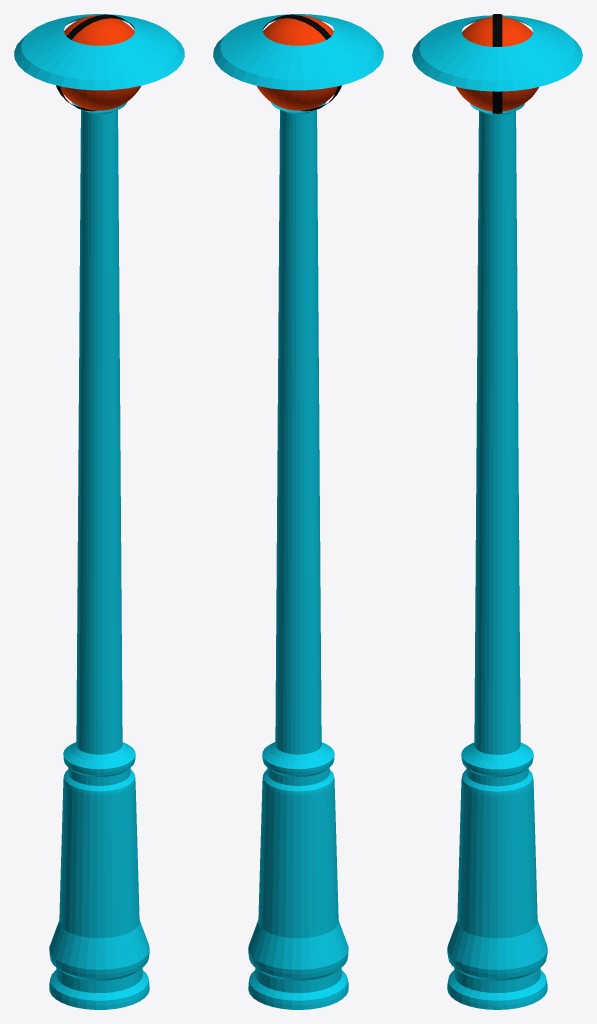
The model's file is lampS.obj.
3 views of the same model, side by side, from view 1: azimuth 30°, elevation 25°; view 2: azimuth 150°, elevation 25°; view 3: azimuth 270°, elevation 25° (orthographic).
Visible parts, largest first — view 1: Sphere, Sphere_003, Sphere_002, Sphere_001; view 2: Sphere, Sphere_003, Sphere_002, Sphere_001; view 3: Sphere, Sphere_003, Sphere_002, Sphere_001.
Boxes of the visible parts, x1=… form: Sphere: x1=49, y1=110, x2=149, y2=1009; Sphere_003: x1=14, y1=14, x2=184, y2=113; Sphere_002: x1=60, y1=15, x2=140, y2=110; Sphere_001: x1=56, y1=14, x2=134, y2=111; Sphere: x1=248, y1=110, x2=348, y2=1009; Sphere_003: x1=213, y1=14, x2=383, y2=113; Sphere_002: x1=257, y1=15, x2=337, y2=110; Sphere_001: x1=263, y1=14, x2=341, y2=111; Sphere: x1=447, y1=111, x2=547, y2=1009; Sphere_003: x1=412, y1=15, x2=582, y2=114; Sphere_002: x1=456, y1=17, x2=538, y2=111; Sphere_001: x1=492, y1=14, x2=502, y2=113.
Size of the model in its own units: 3.4 by 21.3 by 3.4.
